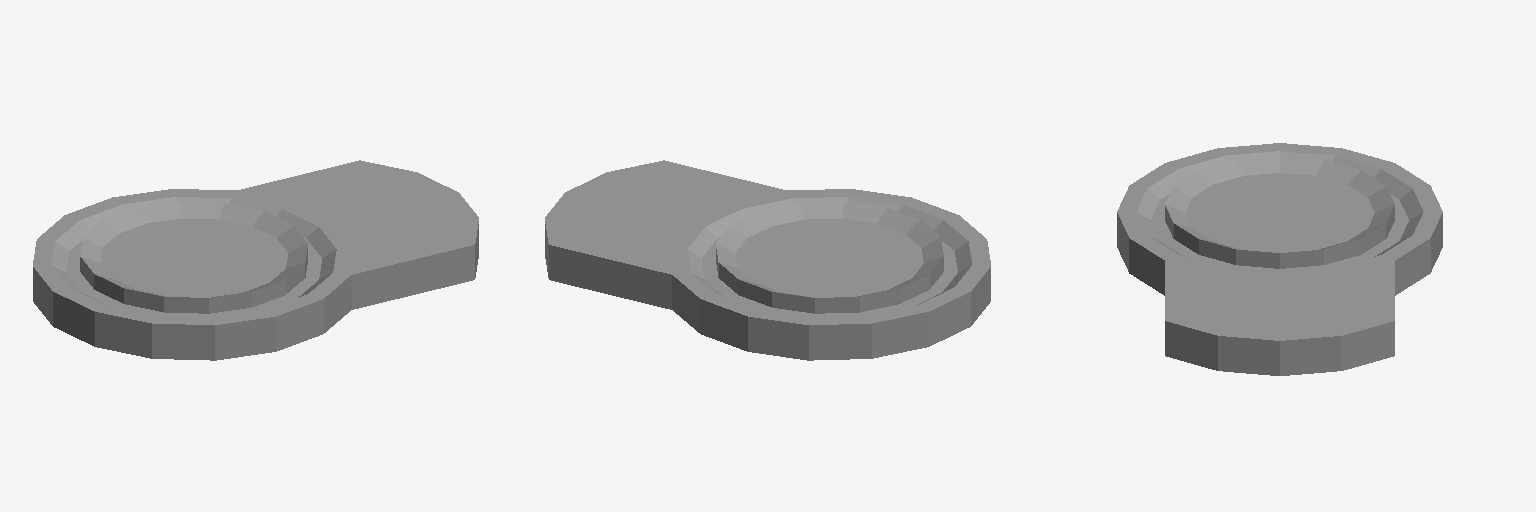
The model's file is Start_platform.obj.
3 views of the same model, side by side, from view 1: azimuth 30°, elevation 25°; view 2: azimuth 150°, elevation 25°; view 3: azimuth 270°, elevation 25° (orthographic).
Parts seen in each view (by area): view 1: Cylinder.001; view 2: Cylinder.001; view 3: Cylinder.001.
Part boxes in pixels (left/top/right/bottom): Cylinder.001: left=33, top=160, right=478, bottom=360; Cylinder.001: left=545, top=160, right=990, bottom=360; Cylinder.001: left=1117, top=143, right=1442, bottom=375.
Bounding box in the file's own units: 15.48 × 1.55 × 10.77.